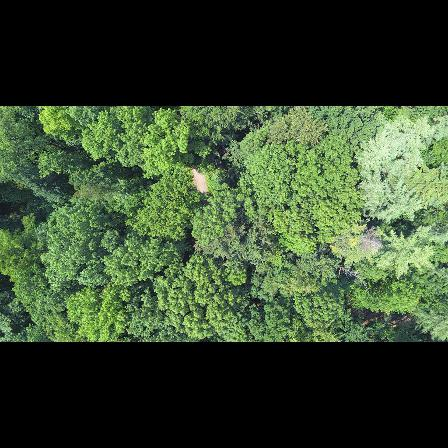Dead: (336, 262, 372, 290), (352, 231, 384, 256)
